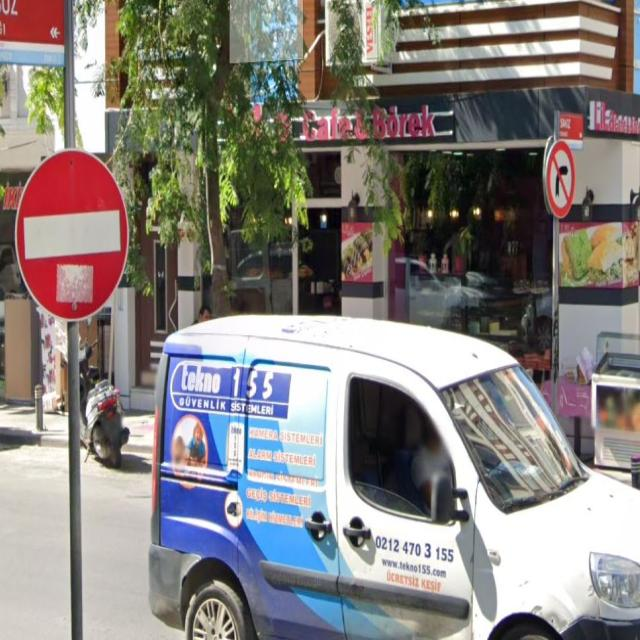girisyok: (15, 149, 130, 322)
sagadonulmez: (547, 140, 576, 219)
